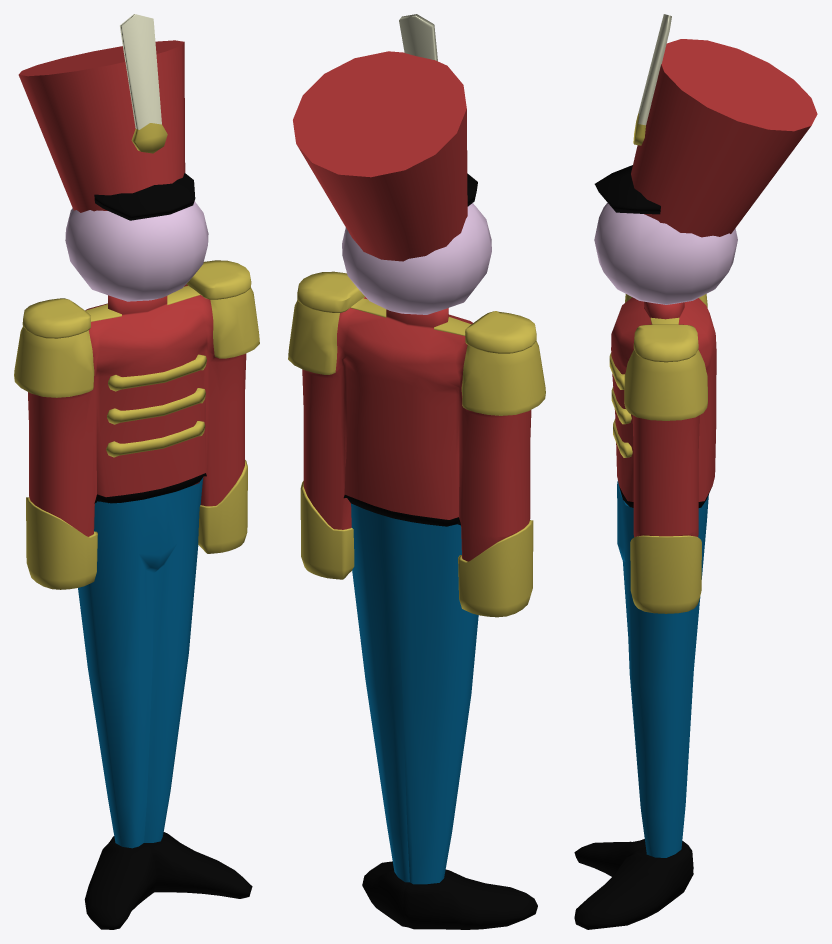
Rendered from Soldier_Boi.fbx.
3 views of the same model, side by side, from view 1: azimuth 30°, elevation 25°; view 2: azimuth 150°, elevation 25°; view 3: azimuth 270°, elevation 25° (orthographic). The views are drawn at different scales.
Visible parts, largest first — view 1: Soldier_Boi; view 2: Soldier_Boi; view 3: Soldier_Boi.
Boxes of the visible parts, x1=… form: Soldier_Boi: x1=14, y1=14, x2=259, y2=929; Soldier_Boi: x1=288, y1=14, x2=545, y2=929; Soldier_Boi: x1=574, y1=14, x2=817, y2=929.
Size of the model in its own units: 11.57 by 41.41 by 10.36.
